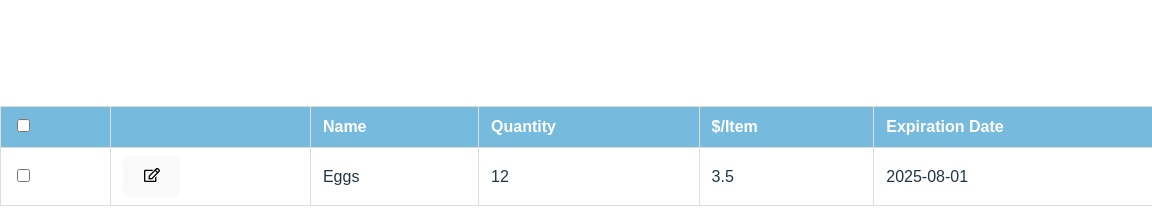
Test: List › Tests that when comments and useWithin are not provided, it displays N/A and/or no comments
// Hover over item
Hover over the row with test id "itemList".
mouse_move(576, 176)  # box [0,147,1151,206]
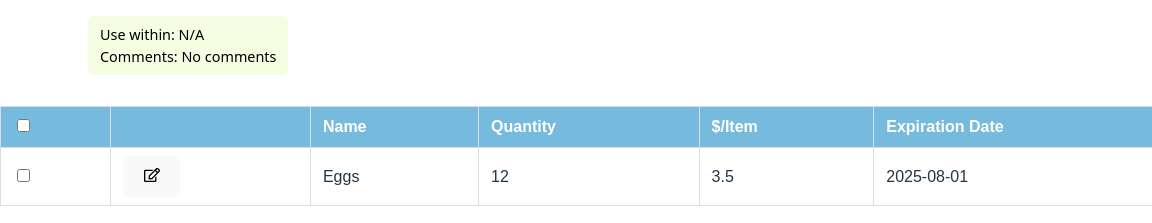
Result: the text "Comments: No comments" is shown at [88,16,288,75]
